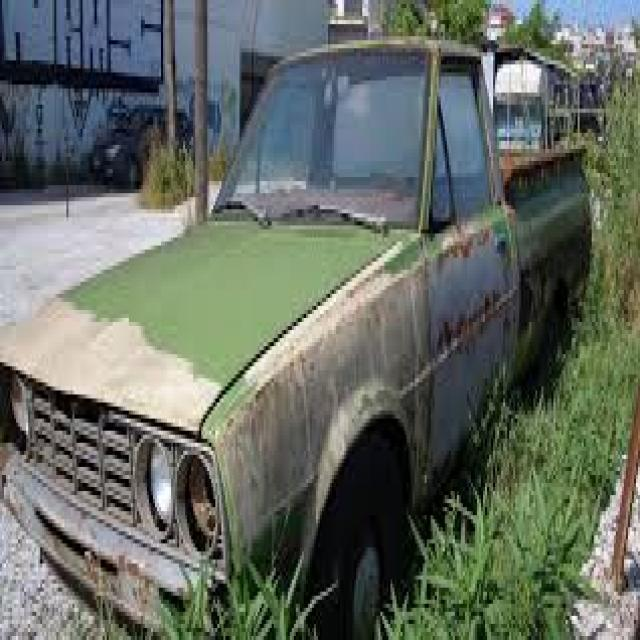CMT: (2, 40, 596, 640)
